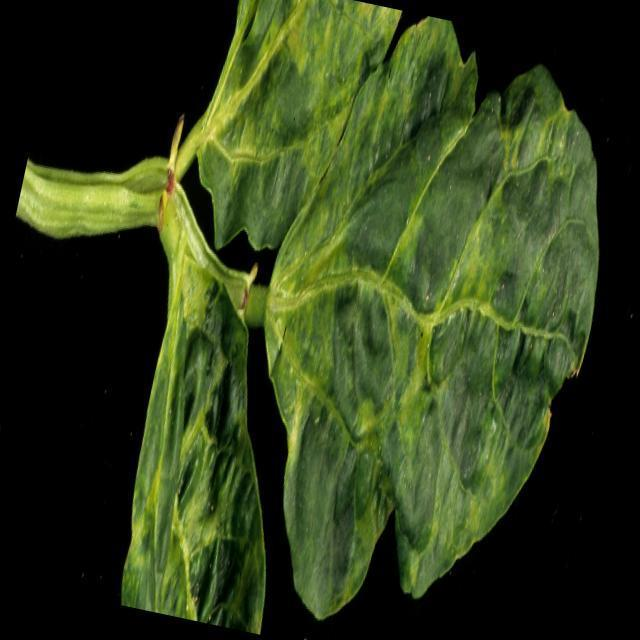Mosaic Virus: (219, 1, 639, 640), (95, 275, 328, 629), (181, 0, 387, 245)
